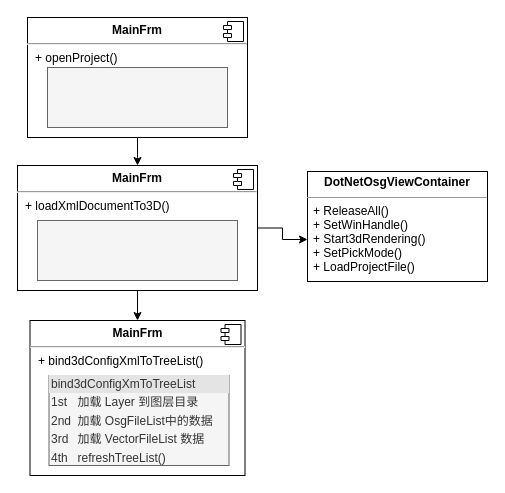
Image size: 505x493. Some labels were removed from this diagram. The centre of each missing label's shape, as x and y in pixels:
"loadXmlDocumentTo3D 1st removeRedundentPanels() 2nd bind3dConfigXmlToTreeList()" belongs at (137,250).
"openProject 1st loadBackGroundState() 2nd loadXmlDocumentTo3D()" belongs at (137,97).
